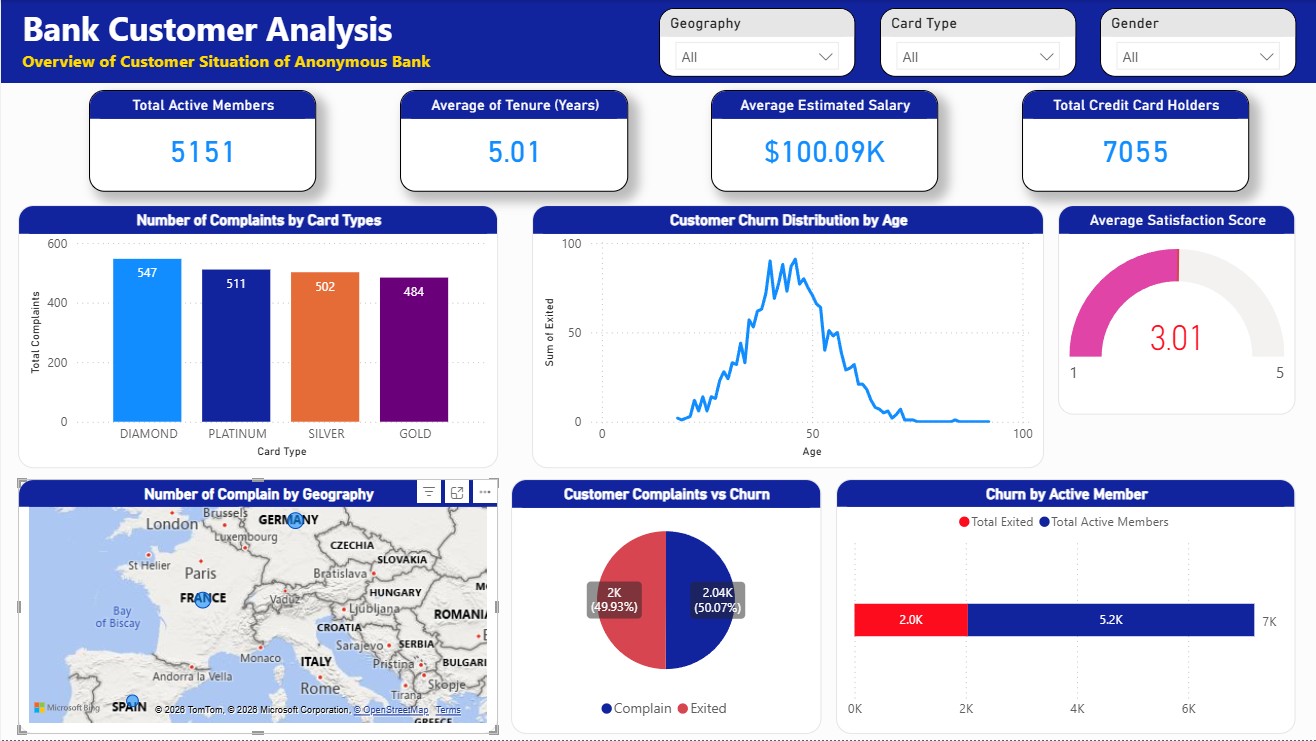

Layout of this report page (visuals, bound fields, positions):
{"tool":"powerbi","page":{"name":"Page 1","canvas":[1280,720],"ordinal":0},"visuals":[{"type":"shape","box":[0,0,1280,80.7],"z":0},{"type":"pieChart","title":"Customer Complaints vs Churn","fields":{"Y":["Sum(Customer-Churn-Records.Complain)","Sum(Customer-Churn-Records.Exited)"]},"box":[496,465.9,301.5,248],"z":1000},{"type":"card","title":"Total Active Members","fields":{"Values":["Sum(Customer-Churn-Records.IsActiveMember)"]},"box":[85.6,87.5,220.8,99.2],"z":2000},{"type":"card","title":"Total Credit Card Holders","fields":{"Values":["Sum(Customer-Churn-Records.HasCrCard)"]},"box":[993.1,87.5,220.8,99.2],"z":3000},{"type":"card","title":"Average of Tenure (Years)","fields":{"Values":["Avg(Customer-Churn-Records.Tenure)"]},"box":[387.8,87.5,221.8,99.2],"z":4000},{"type":"gauge","title":"Average Satisfaction Score","fields":{"MinValue":["Min(Customer-Churn-Records.Satisfaction Score)"],"MaxValue":["Max(Customer-Churn-Records.Satisfaction Score)1"],"Y":["Avg(Customer-Churn-Records.Satisfaction Score)2"],"TargetValue":["Avg(Customer-Churn-Records.Satisfaction Score)2"]},"box":[1028.1,199.4,231.5,204.3],"z":5000},{"type":"card","title":"Average Estimated Salary","fields":{"Values":["Avg(Customer-Churn-Records.EstimatedSalary)"]},"box":[690.9,87.5,220.8,99.2],"z":6000},{"type":"columnChart","title":"Number of Complaints by Card Types","fields":{"Category":["Customer-Churn-Records.Card Type"],"Y":["Sum(Customer-Churn-Records.Complain)"],"Series":["Customer-Churn-Records.Card Type"]},"box":[16.5,199.4,466.9,255.8],"z":7000},{"type":"slicer","title":"Geography","fields":{"Values":["Customer-Churn-Records.Geography"]},"box":[640,7.8,190.6,67.1],"z":8000},{"type":"textbox","box":[15.6,0,433.8,86.6],"z":9000},{"type":"slicer","title":"Gender","fields":{"Values":["Customer-Churn-Records.Gender"]},"box":[1068.9,7.8,190.6,67.1],"z":10000},{"type":"slicer","title":"Card Type","fields":{"Values":["Customer-Churn-Records.Card Type"]},"box":[855,7.8,190.6,67.1],"z":11000},{"type":"map","title":"Number of Complain by Geography","fields":{"Category":["Customer-Churn-Records.Geography"],"Size":["Sum(Customer-Churn-Records.Complain)"]},"box":[16.5,465.9,466.9,248],"z":12000},{"type":"lineChart","title":"Customer Churn Distribution by Age","fields":{"Y":["Sum(Customer-Churn-Records.Exited)"],"Category":["Customer-Churn-Records.Age"]},"box":[516.5,199.4,498,255.8],"z":13000},{"type":"barChart","title":"Churn by Active Member","fields":{"Y":["Sum(Customer-Churn-Records.Exited)","Sum(Customer-Churn-Records.IsActiveMember)"]},"box":[812.2,465.9,447.4,248],"z":14000}]}

Visuals, with their boxes in screenshot pixels (x1, y1, x2, y2), scaled from the page's 1280x720 canvas onto the 1316x741 screenshot:
shape: l=0, t=0, r=1315, b=83
"Customer Complaints vs Churn" pieChart: l=510, t=479, r=820, b=735
"Total Active Members" card: l=88, t=90, r=315, b=192
"Total Credit Card Holders" card: l=1021, t=90, r=1248, b=192
"Average of Tenure (Years)" card: l=399, t=90, r=627, b=192
"Average Satisfaction Score" gauge: l=1057, t=205, r=1295, b=415
"Average Estimated Salary" card: l=710, t=90, r=937, b=192
"Number of Complaints by Card Types" columnChart: l=17, t=205, r=497, b=468
"Geography" slicer: l=658, t=8, r=854, b=77
textbox: l=16, t=0, r=462, b=89
"Gender" slicer: l=1099, t=8, r=1295, b=77
"Card Type" slicer: l=879, t=8, r=1075, b=77
"Number of Complain by Geography" map: l=17, t=479, r=497, b=735
"Customer Churn Distribution by Age" lineChart: l=531, t=205, r=1043, b=468
"Churn by Active Member" barChart: l=835, t=479, r=1295, b=735
